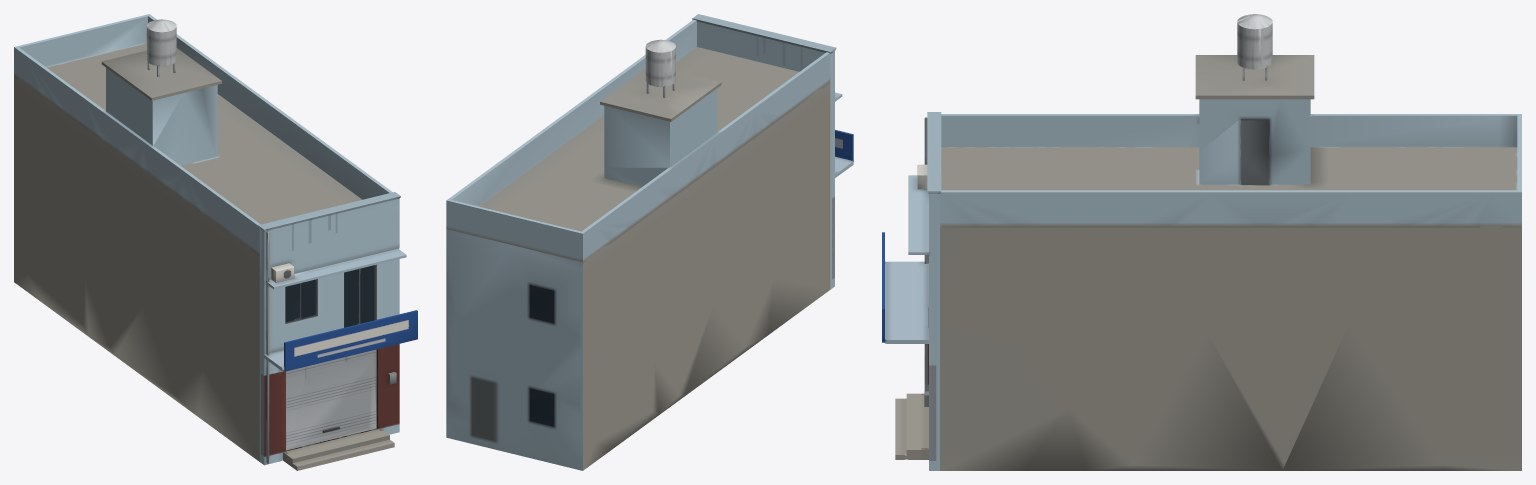
Rendered from nha_pho_2_tang_vung_tau.mid.glb.
The picture shows the model from 3 angles, left to right: view 1: azimuth 30°, elevation 25°; view 2: azimuth 150°, elevation 25°; view 3: azimuth 270°, elevation 25°; orthographic projection. The views are drawn at different scales.
Visible parts, largest first — view 1: nha_pho_2_tang_vung_tau; view 2: nha_pho_2_tang_vung_tau; view 3: nha_pho_2_tang_vung_tau.
Boxes of the visible parts, left/top/right/bottom form: nha_pho_2_tang_vung_tau: left=14, top=14, right=417, bottom=470; nha_pho_2_tang_vung_tau: left=446, top=14, right=853, bottom=470; nha_pho_2_tang_vung_tau: left=882, top=14, right=1521, bottom=470.
Bounding box in the file's own units: 5.06 × 11.81 × 17.26.
3 materials, 3 textured.
